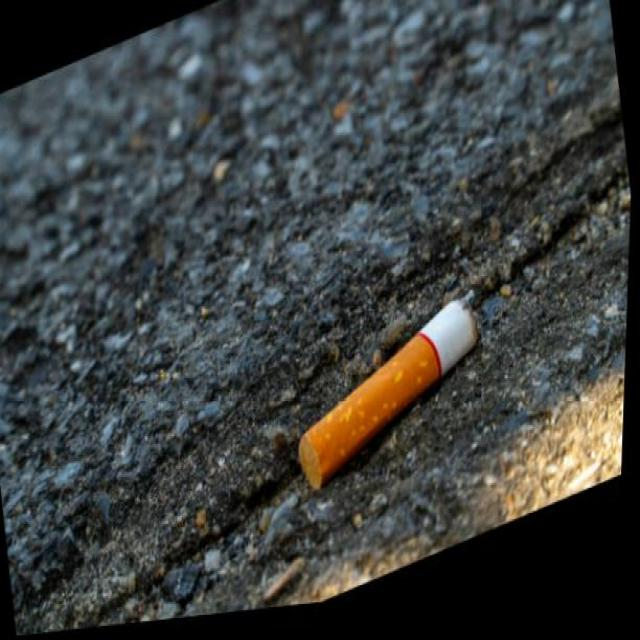cigarette: (284, 287, 501, 513)
